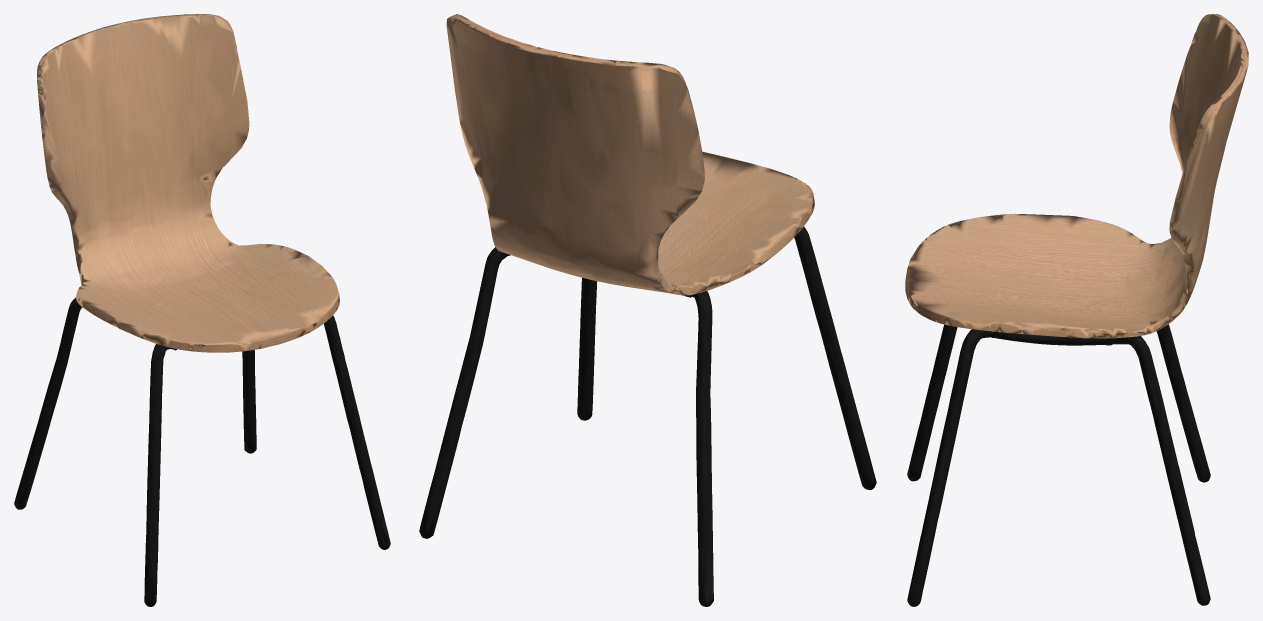
Rendered from BB_Chair_Master_002_Meshy_Selected_LOD0.glb.
3 renders of one model, left to right at view 1: azimuth 30°, elevation 25°; view 2: azimuth 150°, elevation 25°; view 3: azimuth 270°, elevation 25°, orthographic. The views are drawn at different scales.
Parts seen in each view (by area): view 1: mesh_node; view 2: mesh_node; view 3: mesh_node.
Boxes of the visible parts, box(x1,y1,x2,y2) form: mesh_node: box(14, 14, 390, 606); mesh_node: box(419, 14, 876, 606); mesh_node: box(905, 14, 1248, 606).
Size of the model in its own units: 1.1 by 1.9 by 1.21.
1 material, 1 textured.
